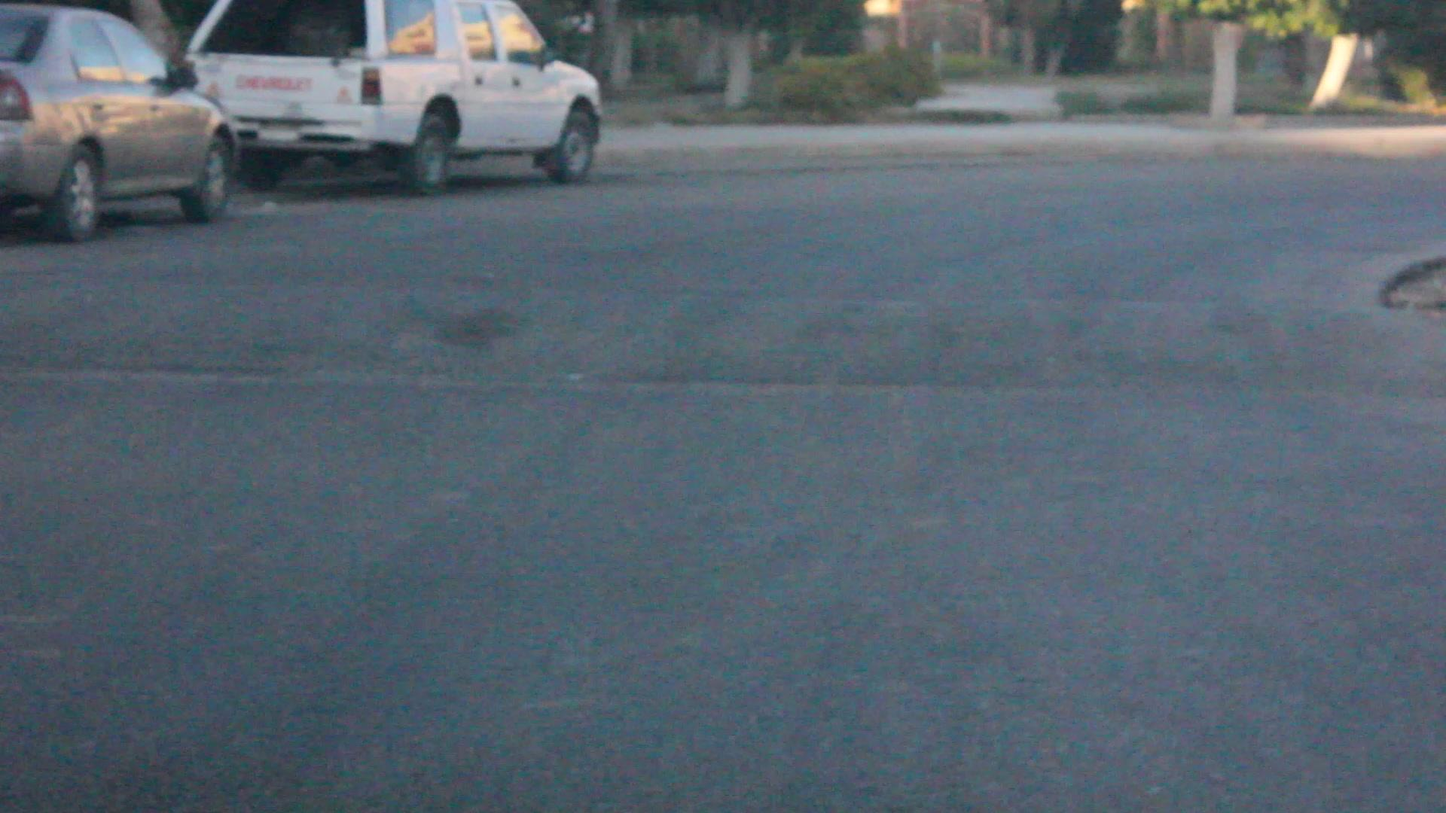Bump: (0, 263, 1445, 412)
